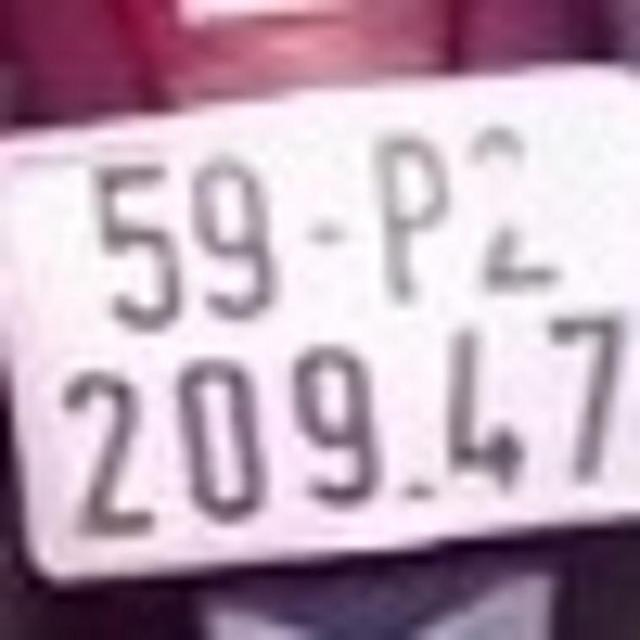0: (176, 354, 268, 521)
2: (60, 368, 160, 538), (472, 130, 565, 295)
4: (444, 315, 526, 488)
5: (94, 157, 181, 330)
7: (552, 311, 628, 496)
9: (291, 332, 384, 510), (192, 148, 277, 324)
P: (370, 127, 449, 300)
